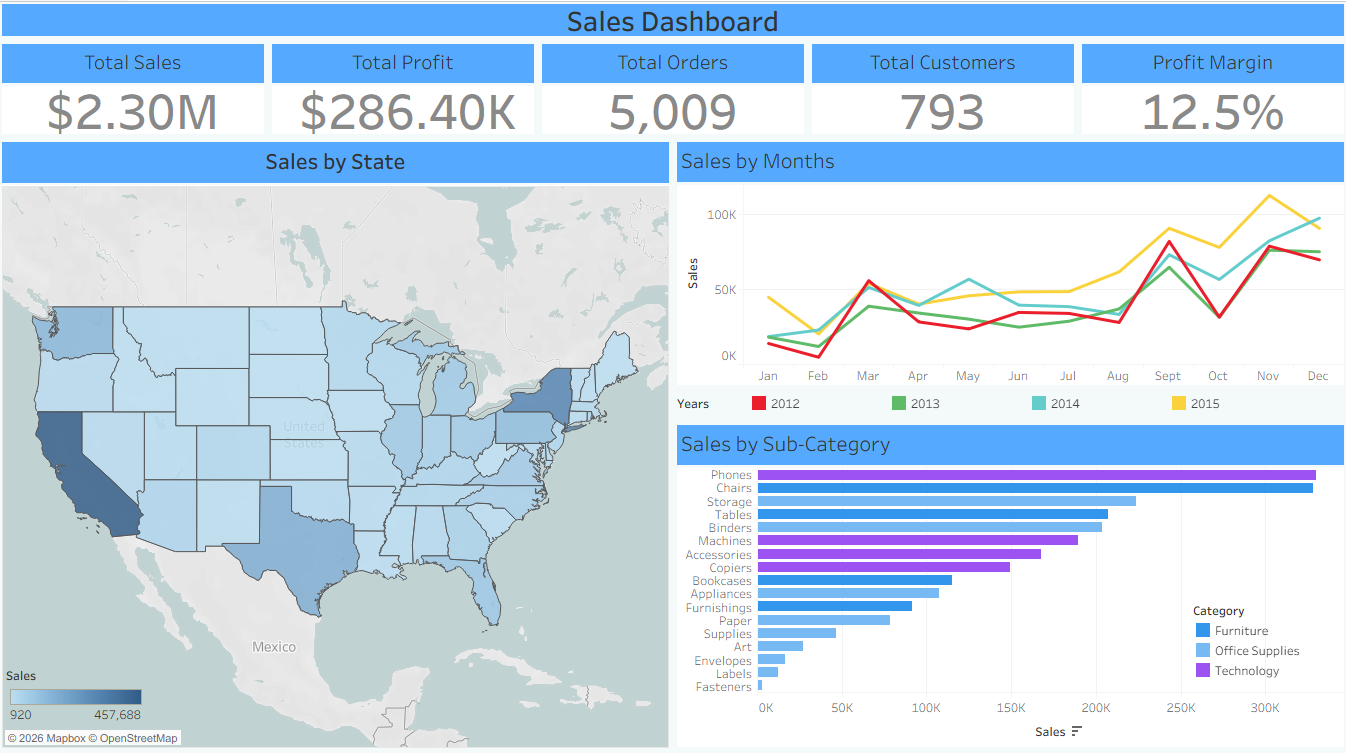

This screenshot's page, from the dashboard's own definition file:
{"tool":"tableau","page":{"name":"Sales Dashboard","canvas":[1366,768],"ordinal":1},"visuals":[{"type":"title","box":[8,8,1350,40]},{"type":"worksheet","title":"KPI Sales","mark":"Automatic","box":[8,48,270,98]},{"type":"worksheet","title":"Total Profit","mark":"Automatic","box":[278,48,270,98]},{"type":"worksheet","title":"Total Orders","mark":"Automatic","box":[548,48,270,98]},{"type":"worksheet","title":"Total Customers","mark":"Automatic","box":[818,48,270,98]},{"type":"worksheet","title":"Profit Margin","mark":"Automatic","box":[1088,48,270,98]},{"type":"worksheet","title":"Sales by State & Customer Segment","mark":"Multipolygon","box":[8,146,675,614]},{"type":"worksheet","title":"Sales by Months","mark":"Automatic","rows":["Sales"],"cols":["Order Date"],"box":[683,146,675,251]},{"type":"legend","title":"Sales by Months","param":"[federated.1kypbau18vaoxz1a78dl80o4f42o].[yr:Order Date:ok]","box":[683,397,675,32]},{"type":"worksheet","title":"Sales by Sub-Category","mark":"Automatic","rows":["Sub-Category"],"cols":["Sales"],"box":[683,429,675,330.9]},{"type":"legend","title":"Sales by Sub-Category","param":"[federated.1kypbau18vaoxz1a78dl80o4f42o].[none:Category:nk]","box":[1203,610,147,88]},{"type":"legend","title":"Sales by State & Customer Segment","param":"[federated.1kypbau18vaoxz1a78dl80o4f42o].[sum:Sales:qk]","box":[16,675,140,78]}]}

Visuals, with their boxes in screenshot pixels (x1, y1, x2, y2), scaled from the page's 1366x768 canvas onto the 1346x753 screenshot:
title: pyautogui.locateOnScreen(8, 8, 1338, 47)
"KPI Sales" worksheet: pyautogui.locateOnScreen(8, 47, 274, 143)
"Total Profit" worksheet: pyautogui.locateOnScreen(274, 47, 540, 143)
"Total Orders" worksheet: pyautogui.locateOnScreen(540, 47, 806, 143)
"Total Customers" worksheet: pyautogui.locateOnScreen(806, 47, 1072, 143)
"Profit Margin" worksheet: pyautogui.locateOnScreen(1072, 47, 1338, 143)
"Sales by State & Customer Segment" worksheet (Multipolygon marks): pyautogui.locateOnScreen(8, 143, 673, 745)
"Sales by Months" worksheet: pyautogui.locateOnScreen(673, 143, 1338, 389)
"Sales by Months" legend: pyautogui.locateOnScreen(673, 389, 1338, 421)
"Sales by Sub-Category" worksheet: pyautogui.locateOnScreen(673, 421, 1338, 745)
"Sales by Sub-Category" legend: pyautogui.locateOnScreen(1185, 598, 1330, 684)
"Sales by State & Customer Segment" legend: pyautogui.locateOnScreen(16, 662, 154, 738)
